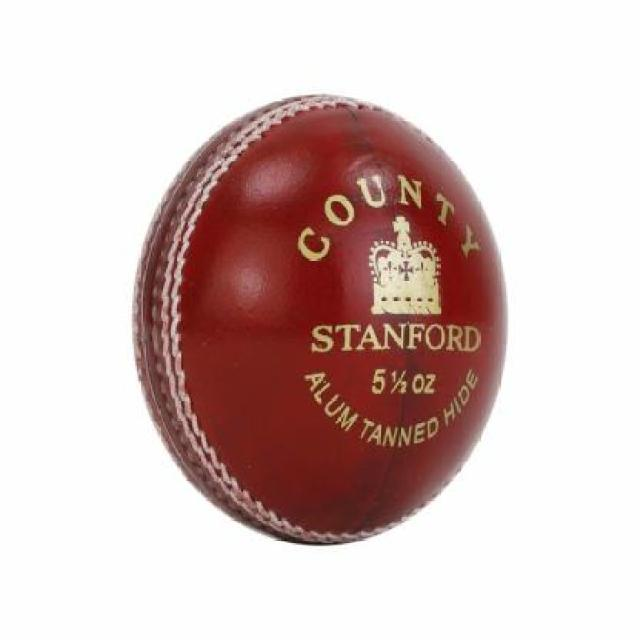ball: (111, 60, 535, 582)
